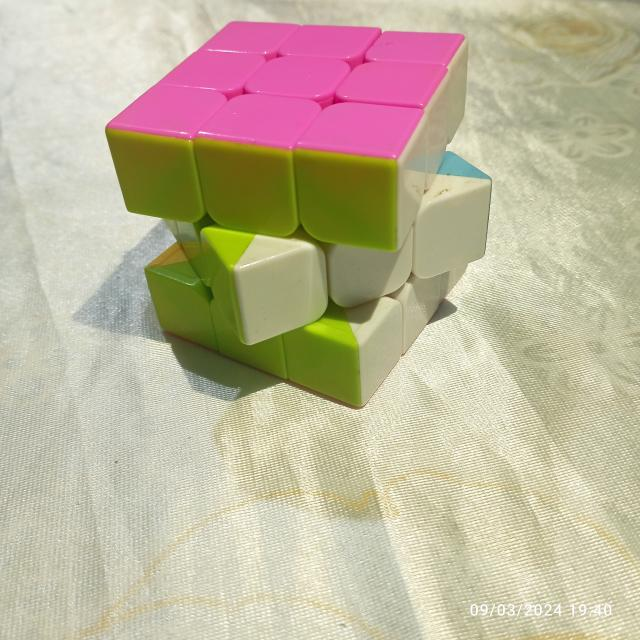Rub: (100, 16, 496, 414)
